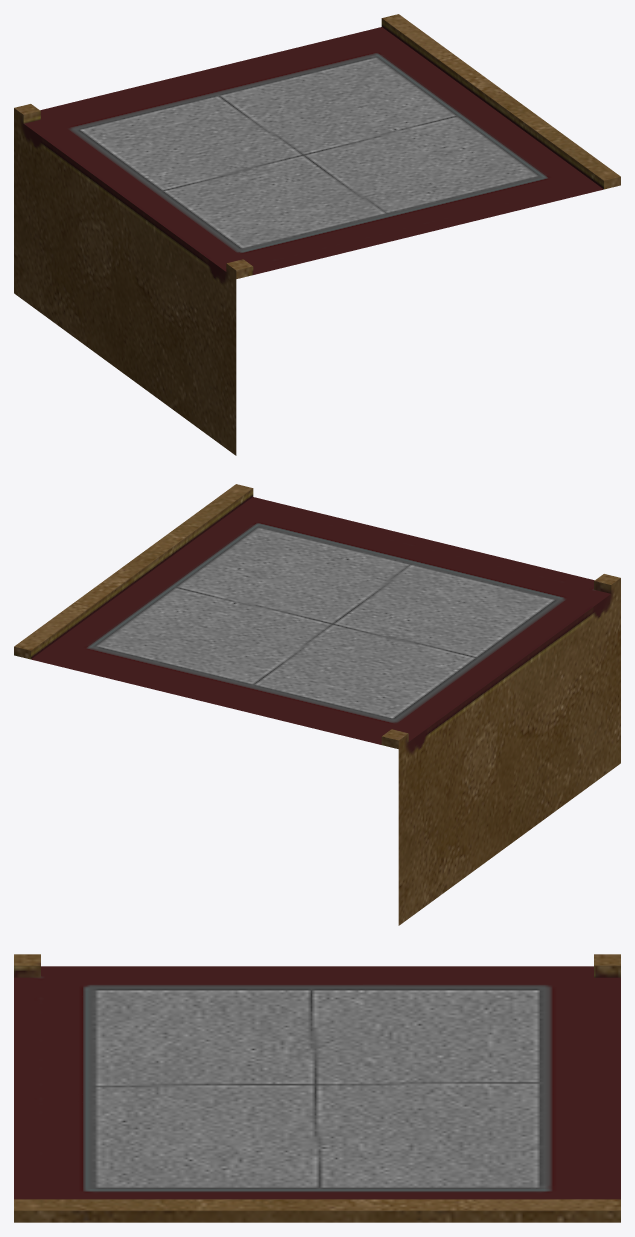
File: T_Module.obj
3 views of the same model, one above another, from view 1: azimuth 30°, elevation 25°; view 2: azimuth 150°, elevation 25°; view 3: azimuth 270°, elevation 25° (orthographic). The views are drawn at different scales.
Visible parts, largest first — view 1: polySurface16; view 2: polySurface16; view 3: polySurface16.
Part boxes in pixels (box(x1,y1,x2,y2)): polySurface16: box(14, 14, 620, 455); polySurface16: box(14, 484, 620, 925); polySurface16: box(14, 954, 620, 1222).
Size of the model in its own units: 197 by 90.53 by 197.
